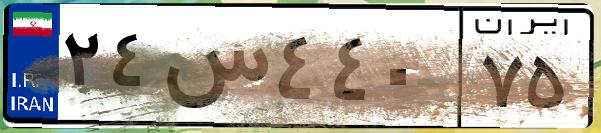0: (385, 28, 445, 110)
2: (57, 26, 110, 100)
4: (270, 28, 330, 110), (330, 28, 385, 110), (110, 28, 158, 98)
5: (525, 38, 570, 115)
7: (475, 38, 525, 113)
س: (158, 20, 270, 120)
